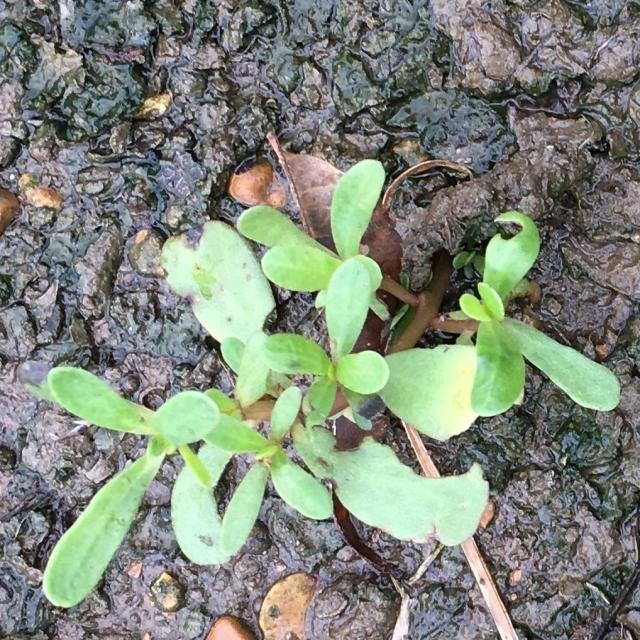Purslane: (18, 159, 620, 608)
